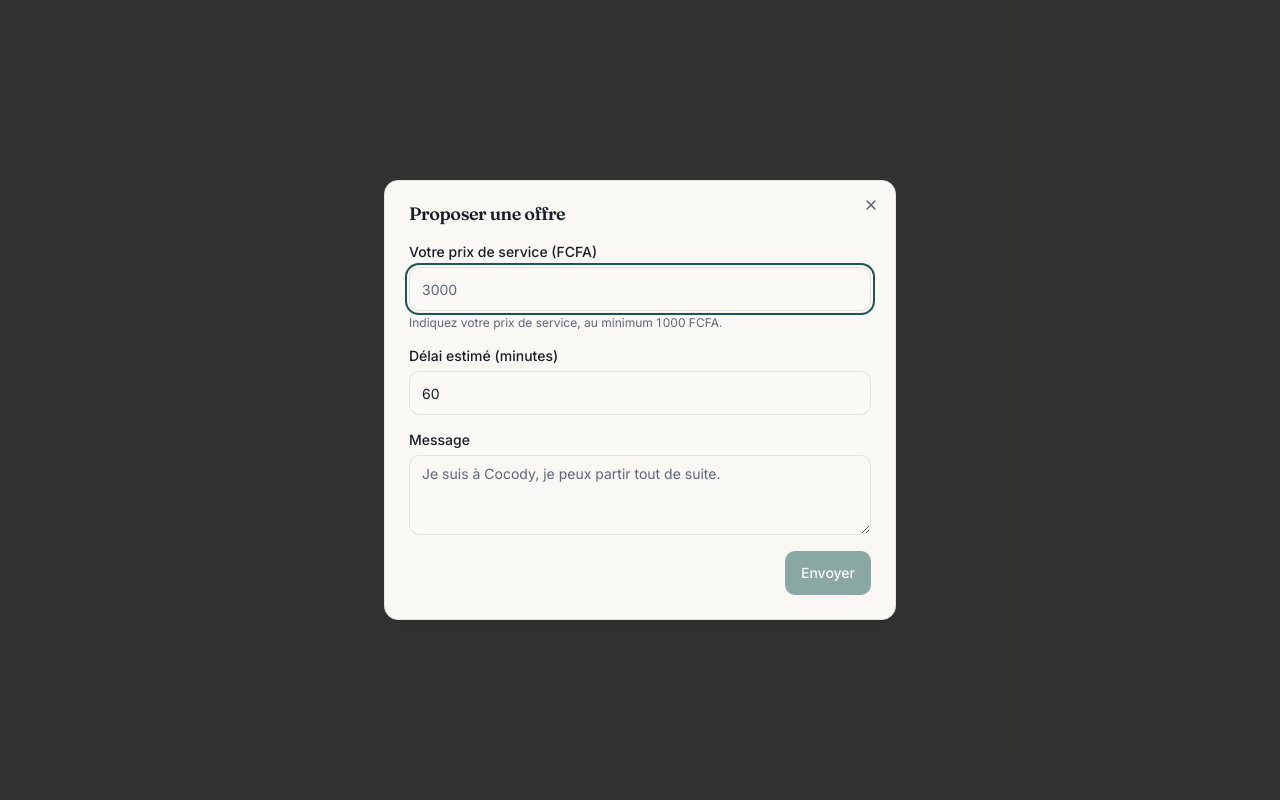
Test case: plancher de prix d'une offre › ne laisse pas saisir autre chose que des chiffres
In the field labelled "Votre prix de service (FCFA)": [640, 289] box [409,267,871,311], type "3 000 FCFA"
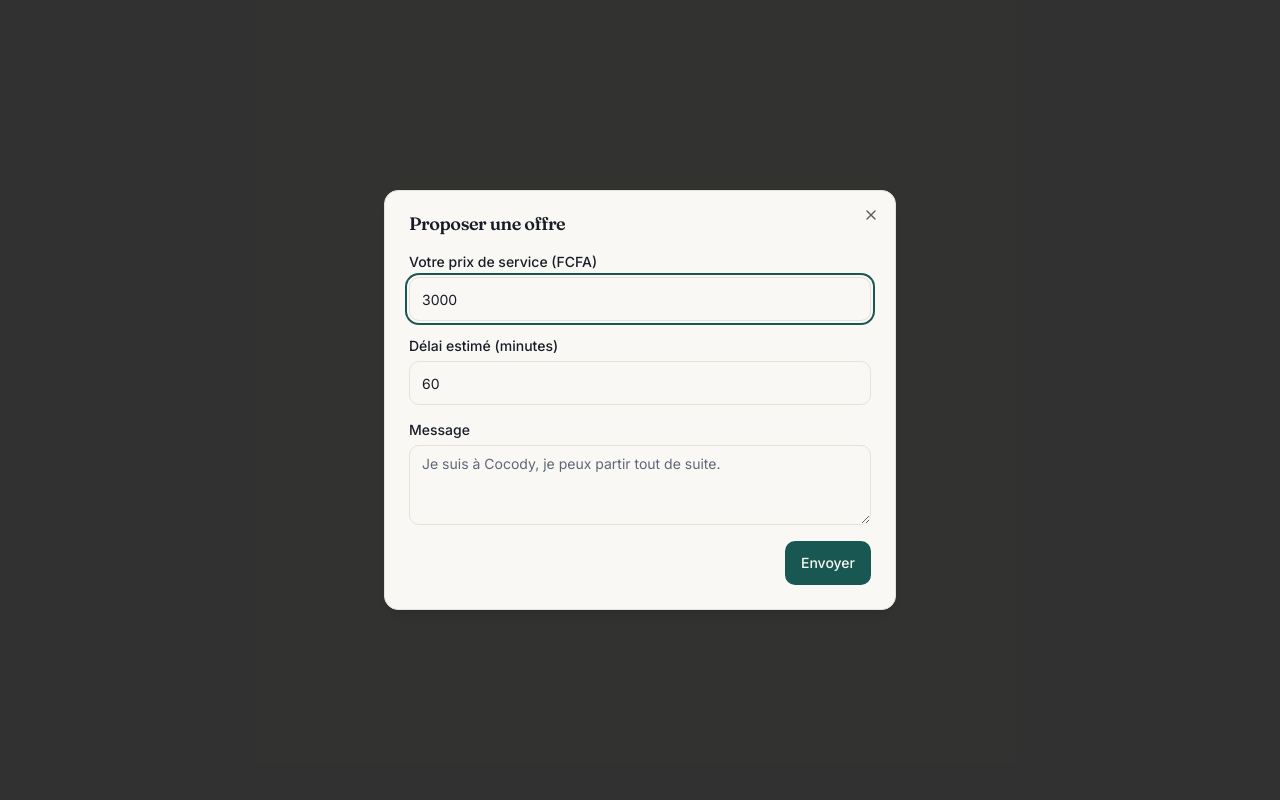
Expected: the field labelled "Votre prix de service (FCFA)" holds "3000", [409,277,871,321]
